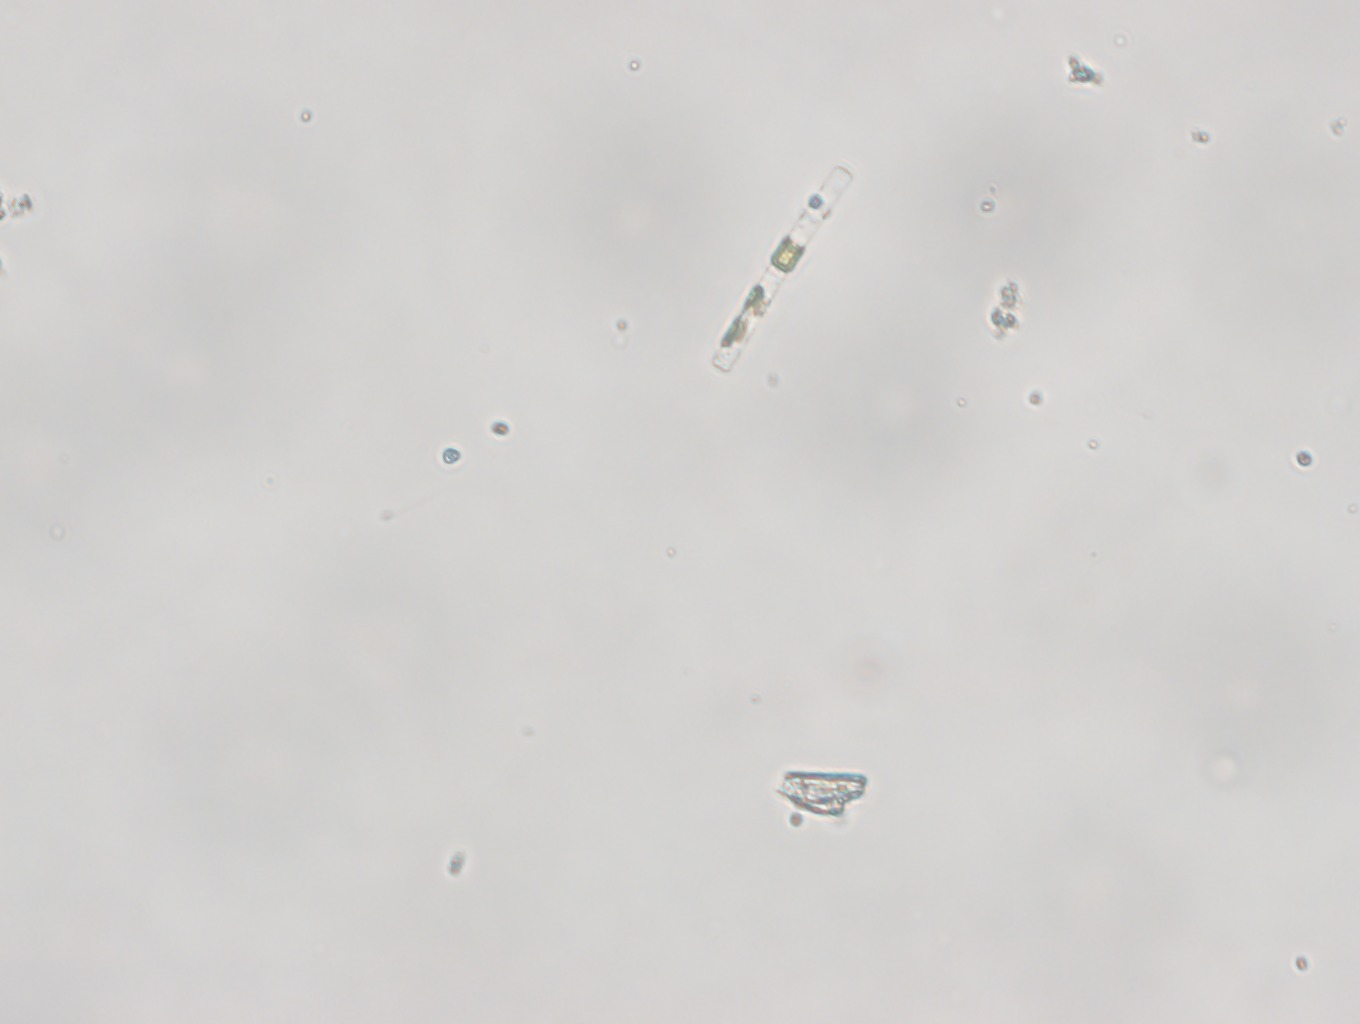guinardia flaccida: (701, 163, 864, 379)
